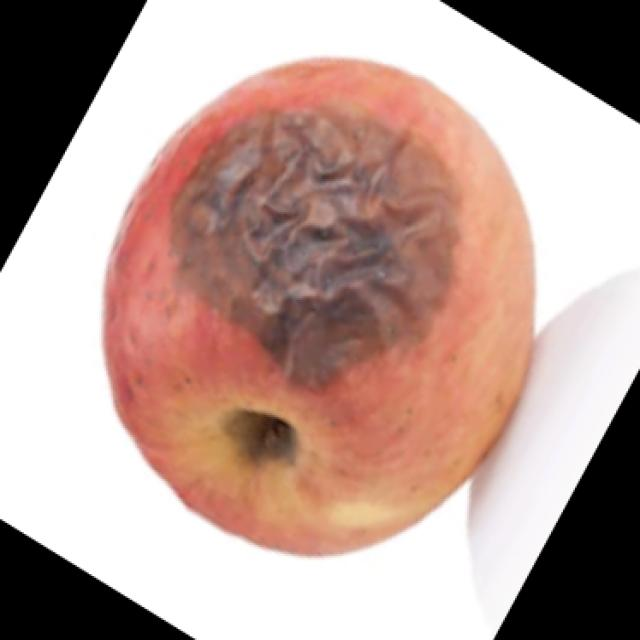Rotten: (92, 51, 539, 560)
